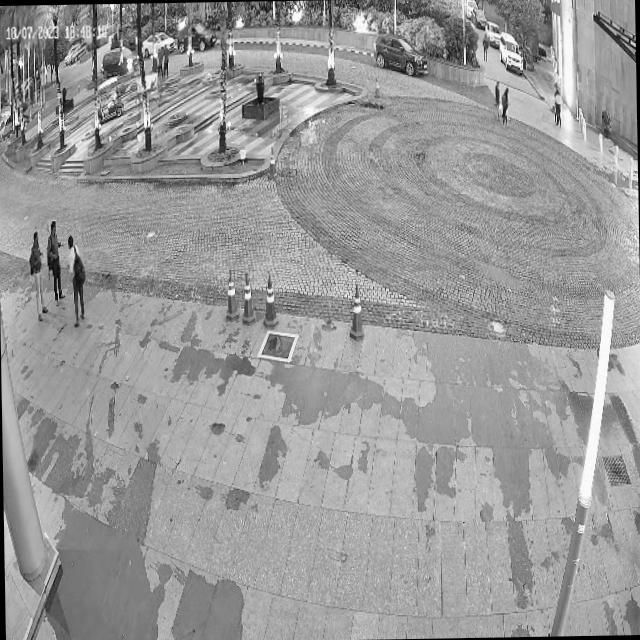person: (64, 230, 90, 328), (27, 230, 50, 325), (47, 215, 66, 304)
